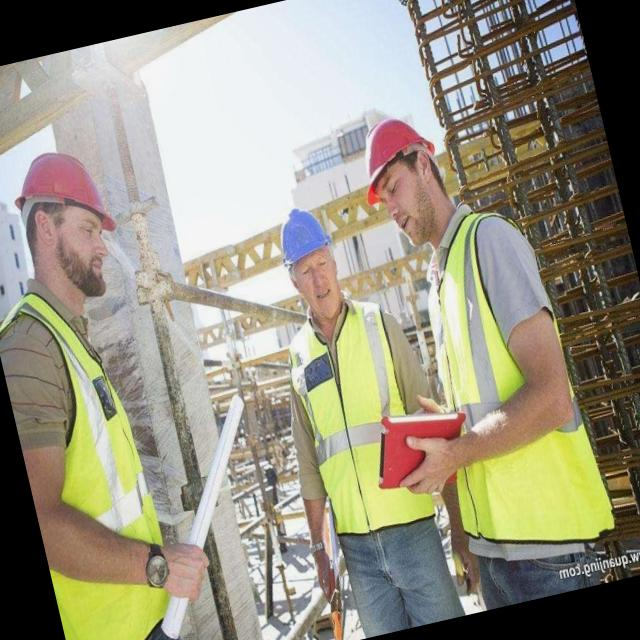helmet: (5, 134, 126, 253), (352, 101, 462, 216), (268, 188, 337, 272)
vest: (384, 198, 602, 568), (0, 279, 207, 640), (274, 286, 441, 551)
